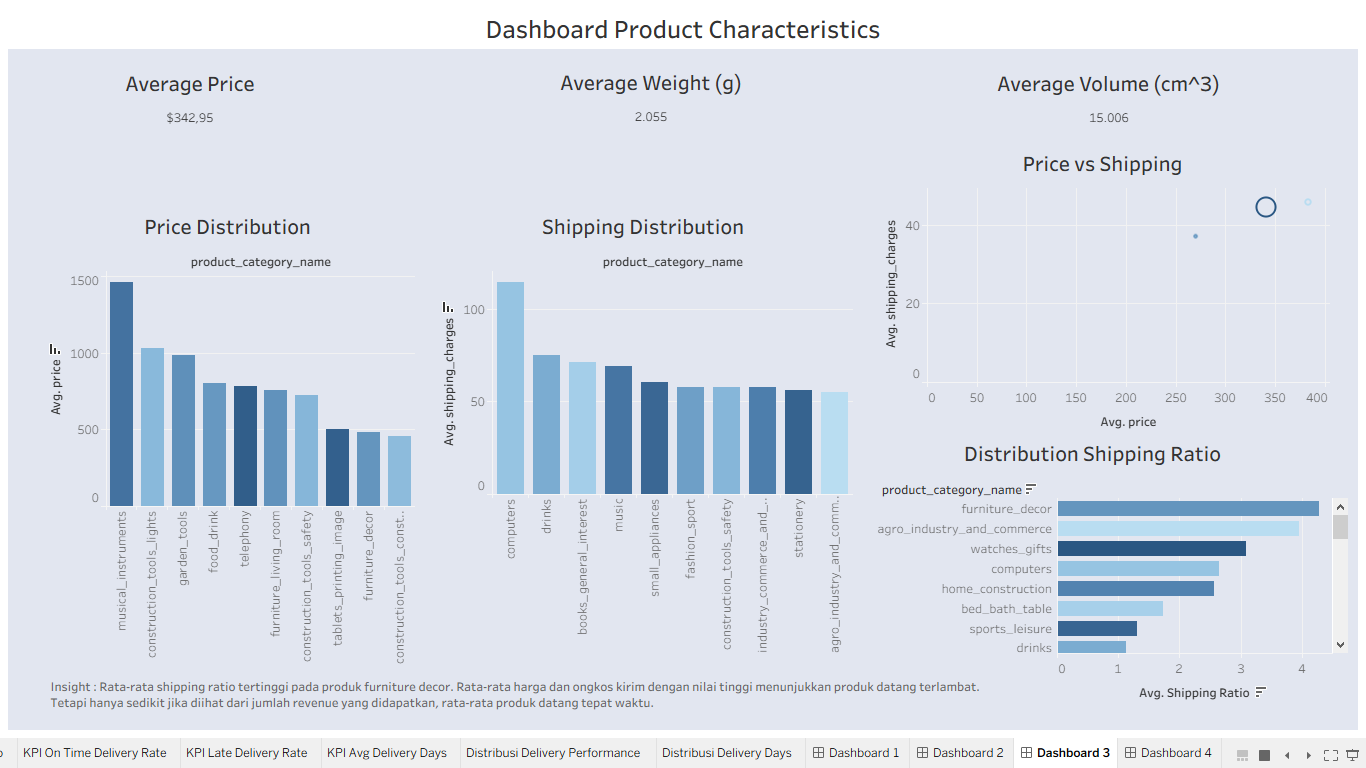

Layout of this report page (visuals, bound fields, positions):
{"tool":"tableau","page":{"name":"Dashboard 3","canvas":[1000,1000],"units":"permille","ordinal":2},"visuals":[{"type":"title","box":[5.9,10.8,988.3,55.6]},{"type":"worksheet","title":"KPI Avg Weight","mark":"Automatic","box":[378.4,86.2,241.6,109.8]},{"type":"worksheet","title":"KPI Avg Price","mark":"Automatic","box":[52.8,87.8,206.1,118.2]},{"type":"worksheet","title":"KPI Avg Volume","mark":"Automatic","box":[705.6,87.8,258.9,109.8]},{"type":"worksheet","title":"Price vs Shipping","mark":"Automatic","rows":["shipping_charges"],"cols":["price"],"box":[640.7,196,333.3,395.3]},{"type":"worksheet","title":"Price Distribution","mark":"Automatic","rows":["price"],"cols":["product_category_name"],"box":[29.4,282.1,274.5,619.9]},{"type":"worksheet","title":"Shipping Distribution","mark":"Automatic","rows":["shipping_charges"],"cols":["product_category_name"],"box":[316.9,282.1,307.4,621.6]},{"type":"worksheet","title":"Distribusi Shipping Ratio","mark":"Automatic","rows":["product_category_name"],"cols":["Shipping Ratio"],"box":[624.2,589.5,362.8,369.9]},{"type":"text","box":[35.5,913.9,692.6,57.4]}]}

Visuals, with their boxes on the dashboard's canvas, which has no fixed pixel size, in thousandths of its width and height (x1, y1, x2, y2). These are canvas units, not pixel positions in the 1366x768 screenshot, which may show the page scaled, cropped or inside an application window:
title: region(6, 11, 994, 66)
"KPI Avg Weight" worksheet: region(378, 86, 620, 196)
"KPI Avg Price" worksheet: region(53, 88, 259, 206)
"KPI Avg Volume" worksheet: region(706, 88, 964, 198)
"Price vs Shipping" worksheet: region(641, 196, 974, 591)
"Price Distribution" worksheet: region(29, 282, 304, 902)
"Shipping Distribution" worksheet: region(317, 282, 624, 904)
"Distribusi Shipping Ratio" worksheet: region(624, 590, 987, 959)
text: region(36, 914, 728, 971)
